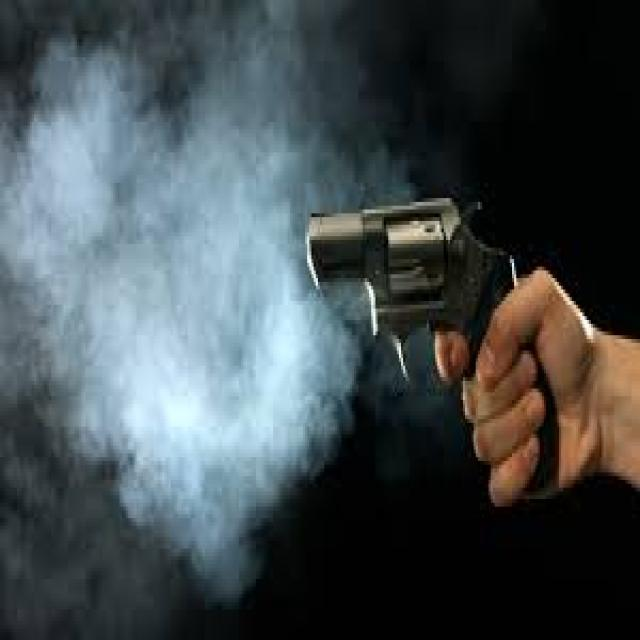weapons: (275, 128, 567, 530)
